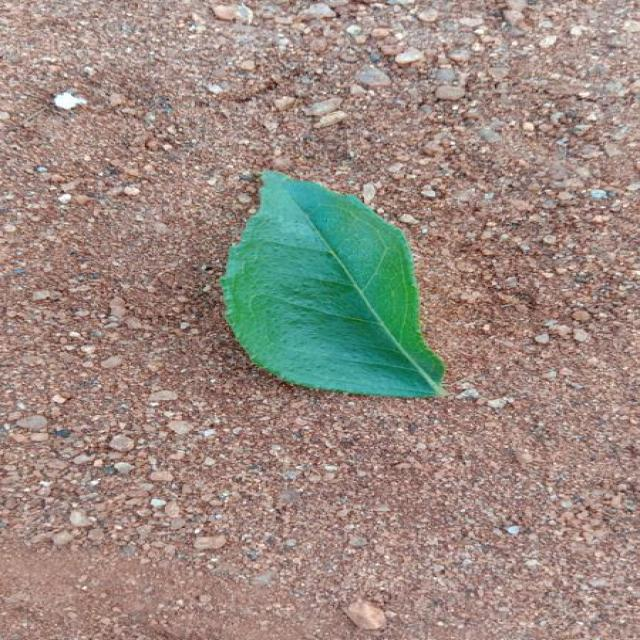curry: (222, 171, 445, 397)
